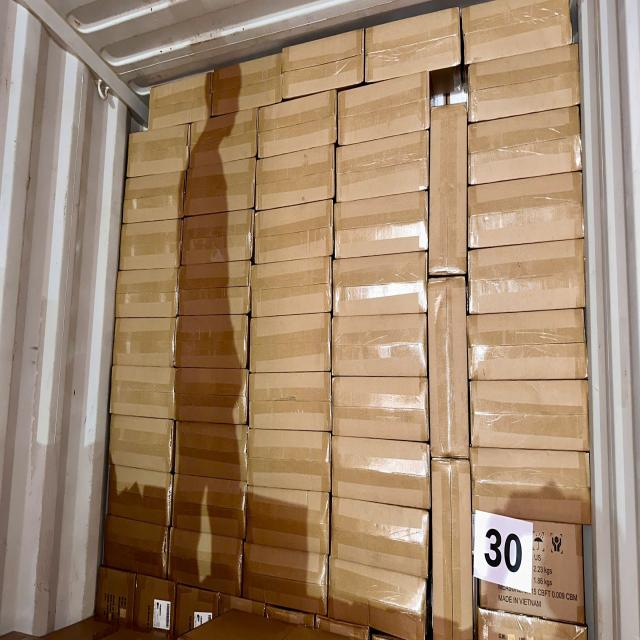Carton: (472, 520, 590, 627), (468, 443, 594, 527), (466, 172, 585, 250), (468, 378, 592, 452), (467, 307, 589, 382), (471, 41, 582, 122), (467, 237, 585, 313), (469, 105, 584, 178), (331, 497, 431, 579), (330, 556, 428, 639), (430, 459, 474, 640), (427, 279, 468, 462), (333, 436, 431, 509), (367, 7, 462, 82), (462, 3, 580, 63), (245, 539, 329, 617), (332, 250, 428, 316), (332, 378, 430, 442), (332, 314, 428, 378), (431, 104, 466, 279), (248, 485, 332, 555), (336, 191, 428, 254), (170, 471, 250, 543), (337, 133, 430, 194), (166, 527, 246, 597), (248, 426, 332, 491), (337, 74, 430, 132), (173, 418, 251, 484), (249, 370, 331, 432), (249, 314, 333, 372), (282, 29, 365, 86), (250, 262, 334, 318), (258, 90, 338, 148), (255, 199, 334, 257), (173, 367, 249, 427), (256, 146, 336, 202), (174, 314, 251, 372), (106, 464, 176, 527), (178, 261, 252, 319), (147, 66, 212, 130), (104, 513, 170, 575), (212, 52, 282, 110), (181, 210, 253, 265), (188, 106, 258, 162), (186, 158, 256, 214), (109, 412, 174, 472), (110, 367, 180, 419), (114, 313, 178, 366), (126, 125, 188, 177), (114, 268, 178, 318), (122, 173, 187, 220), (119, 222, 185, 268)
